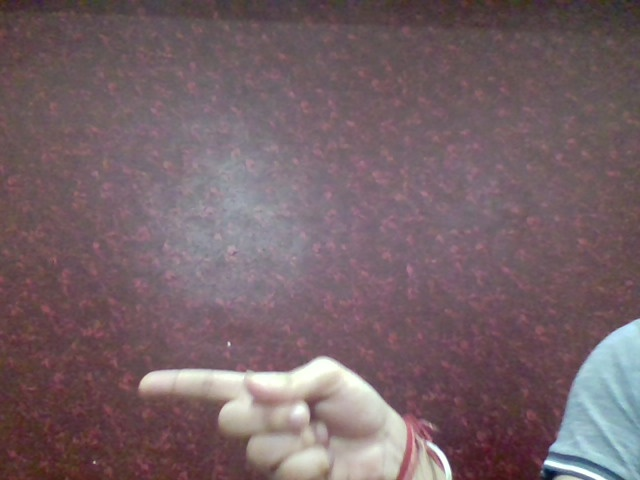g: (126, 344, 453, 477)
